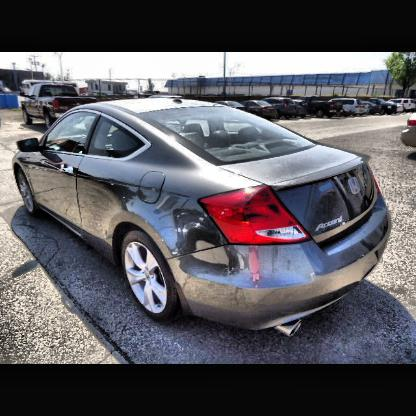Honda Accord Coupe 2012: (14, 97, 393, 338)
